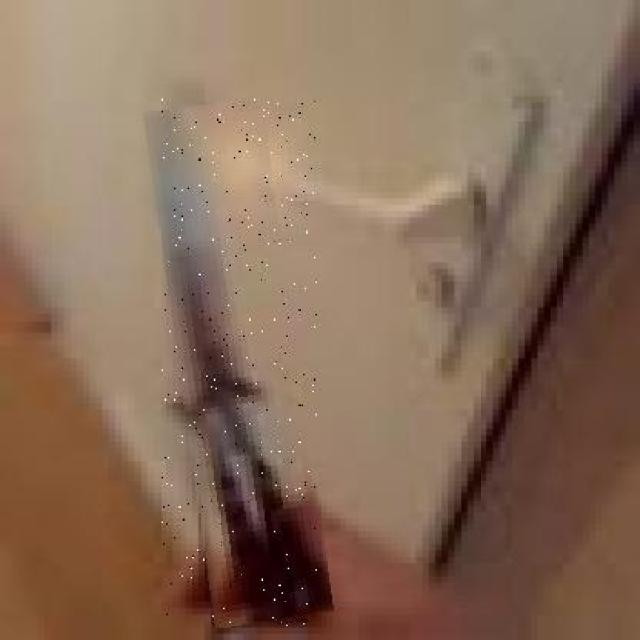knife: (161, 99, 317, 626)
